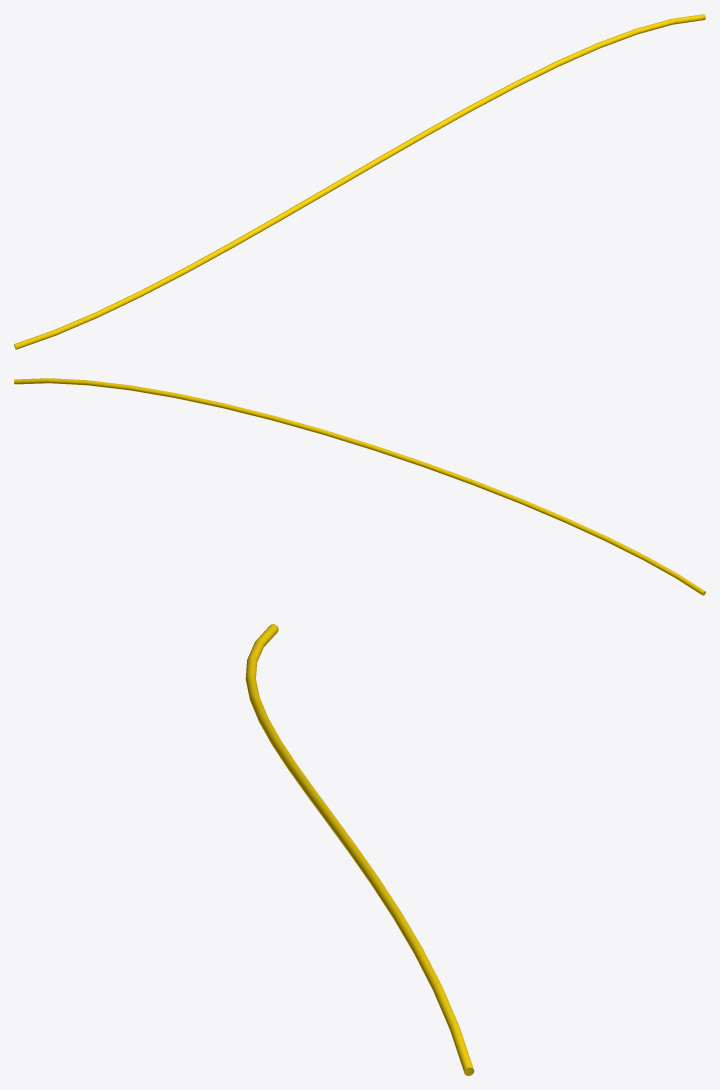
File: Event_421115418_track_168.fbx
3 renders of one model, top to bottom at view 1: azimuth 30°, elevation 25°; view 2: azimuth 150°, elevation 25°; view 3: azimuth 270°, elevation 25°, orthographic. The views are drawn at different scales.
Visible parts, largest first — view 1: Model; view 2: Model; view 3: Model.
Part boxes in pixels (bbox=[...]): Model: bbox=[14, 14, 705, 349]; Model: bbox=[14, 378, 705, 595]; Model: bbox=[245, 624, 474, 1075].
Size of the model in its own units: 5.76 by 0.9063 by 0.8889.
